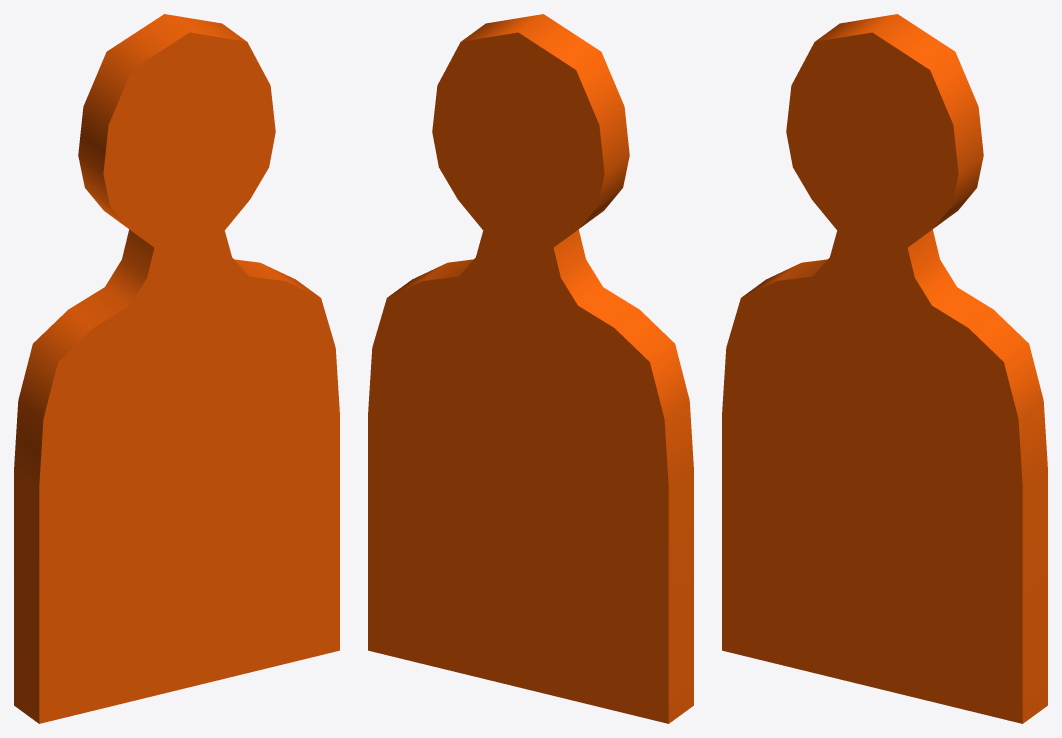
File: prop_falseman.FBX
The picture shows the model from 3 angles, left to right: view 1: azimuth 30°, elevation 25°; view 2: azimuth 150°, elevation 25°; view 3: azimuth 330°, elevation 25°; orthographic projection.
Visible parts, largest first — view 1: prop_falseman; view 2: prop_falseman; view 3: prop_falseman.
Boxes of the visible parts, x1,y1,x2,y2 form: prop_falseman: (14,14,339,723); prop_falseman: (368,14,693,723); prop_falseman: (722,14,1047,723).
Size of the model in its own units: 0.8128 by 1.69 by 0.1179.
